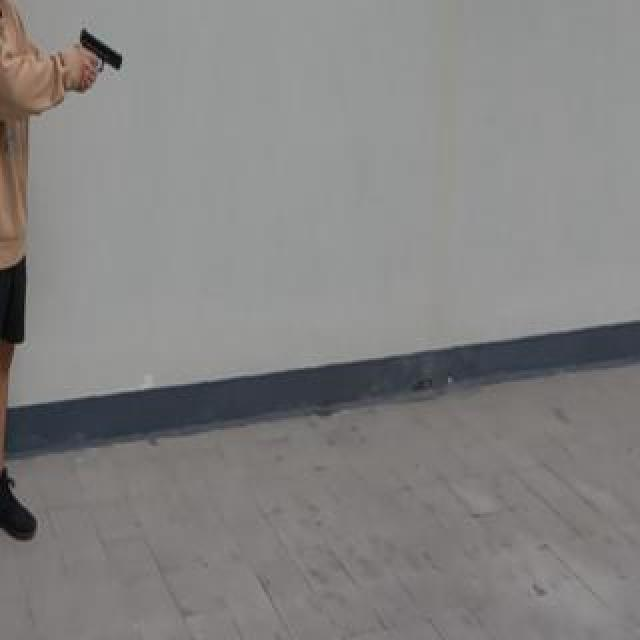Guns: (70, 18, 144, 96)
